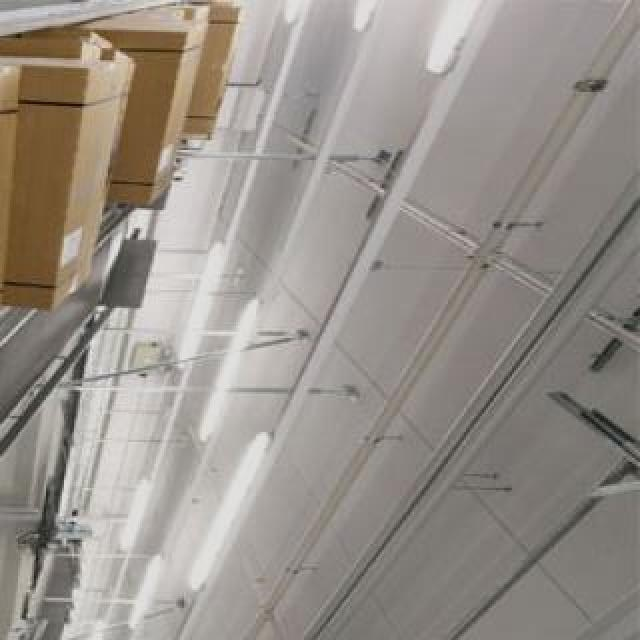fluorescent tube: (179, 425, 277, 623), (196, 291, 276, 456), (411, 0, 505, 140), (93, 475, 162, 573), (324, 0, 411, 64), (114, 557, 171, 627), (68, 612, 120, 640)
